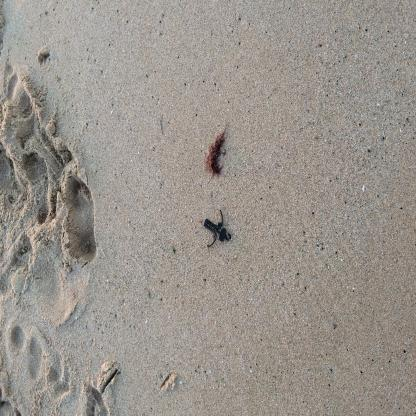trash: (202, 208, 234, 249)
